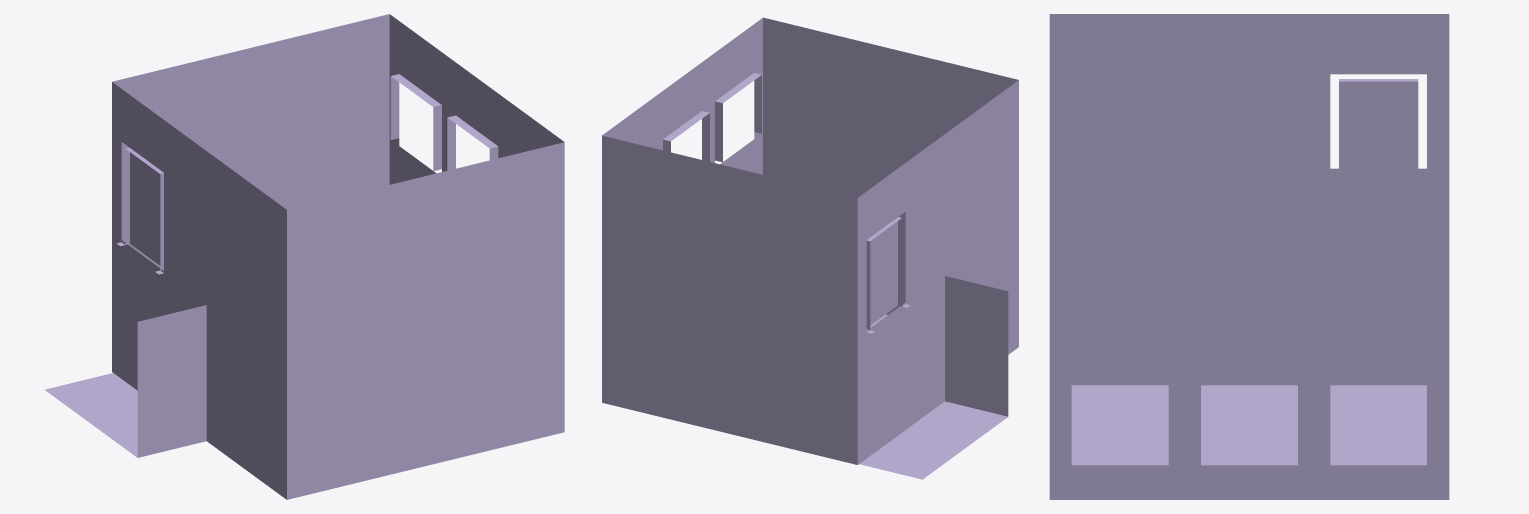
File: Bld_R_low_L5_C.fbx
3 renders of one model, left to right at view 1: azimuth 30°, elevation 25°; view 2: azimuth 150°, elevation 25°; view 3: azimuth 270°, elevation 25°, orthographic. The views are drawn at different scales.
Visible parts, largest first — view 1: Bld_R_low_L5_C_LOD0; view 2: Bld_R_low_L5_C_LOD0; view 3: Bld_R_low_L5_C_LOD0.
Boxes of the visible parts, <box> form: Bld_R_low_L5_C_LOD0: <box>45,14,564,499</box>; Bld_R_low_L5_C_LOD0: <box>602,17,1018,479</box>; Bld_R_low_L5_C_LOD0: <box>1049,14,1449,499</box>.
Size of what is drawn, in the model's own units: 1400 by 1260 by 1407.
Materials: 1 (1 with a texture image).
